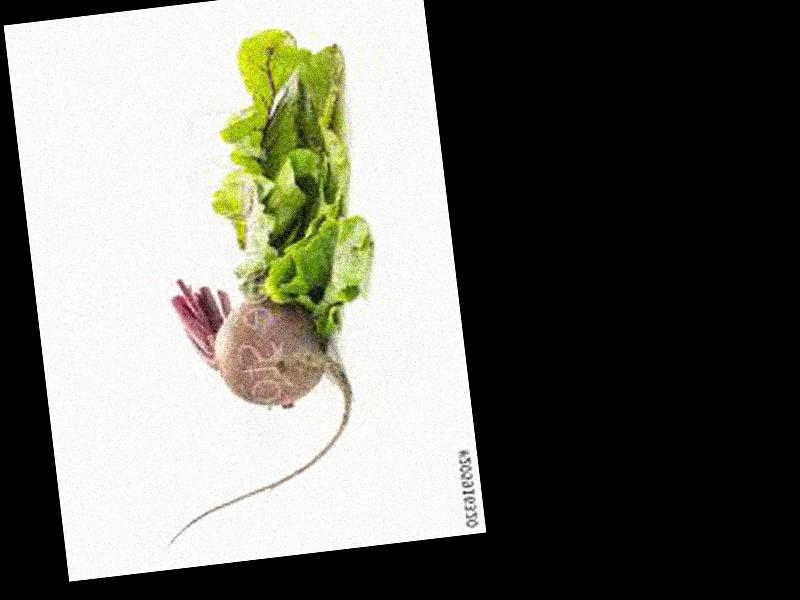Beet: (133, 257, 368, 552)
